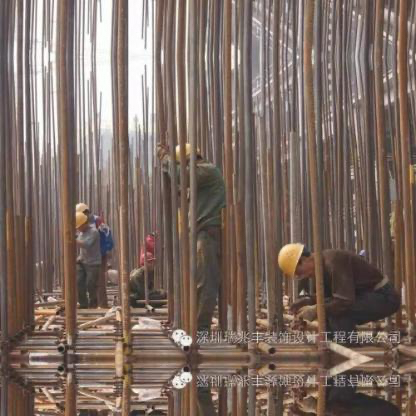helmet: (275, 237, 314, 281), (170, 142, 209, 173), (67, 211, 87, 230), (73, 201, 90, 217)
